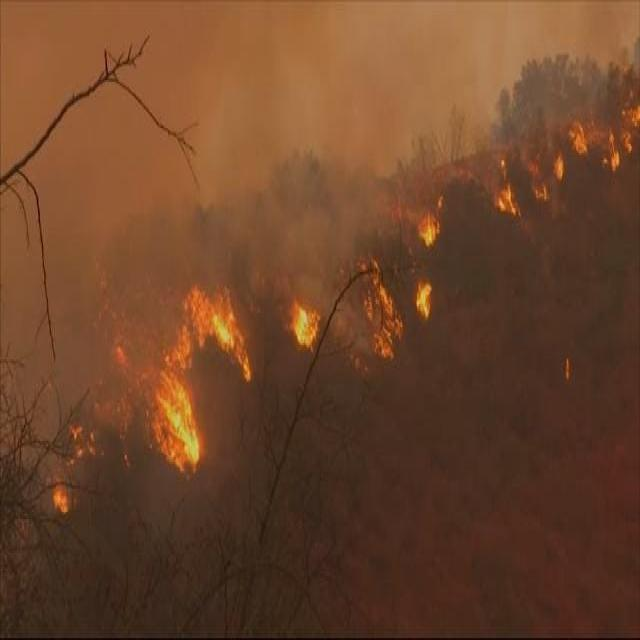Smoke: (220, 48, 375, 358), (469, 0, 527, 160)
